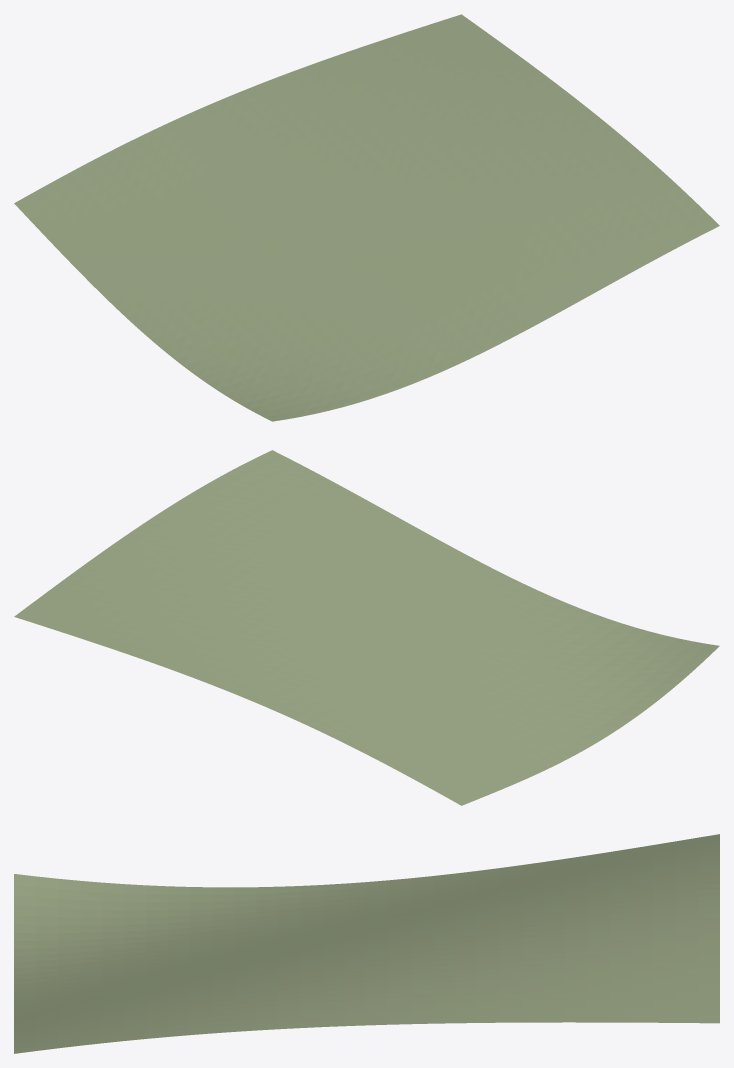
Rendered from expanse-9-9.glb.
The picture shows the model from 3 angles, top to bottom: view 1: azimuth 30°, elevation 25°; view 2: azimuth 150°, elevation 25°; view 3: azimuth 270°, elevation 25°; orthographic projection. The views are drawn at different scales.
Visible parts, largest first — view 1: expanse-9-9; view 2: expanse-9-9; view 3: expanse-9-9.
Boxes of the visible parts, <box> form: expanse-9-9: <box>14,14,719,421</box>; expanse-9-9: <box>14,450,719,805</box>; expanse-9-9: <box>14,834,719,1053</box>.
Size of the model in its own units: 256 by 65.33 by 256.
